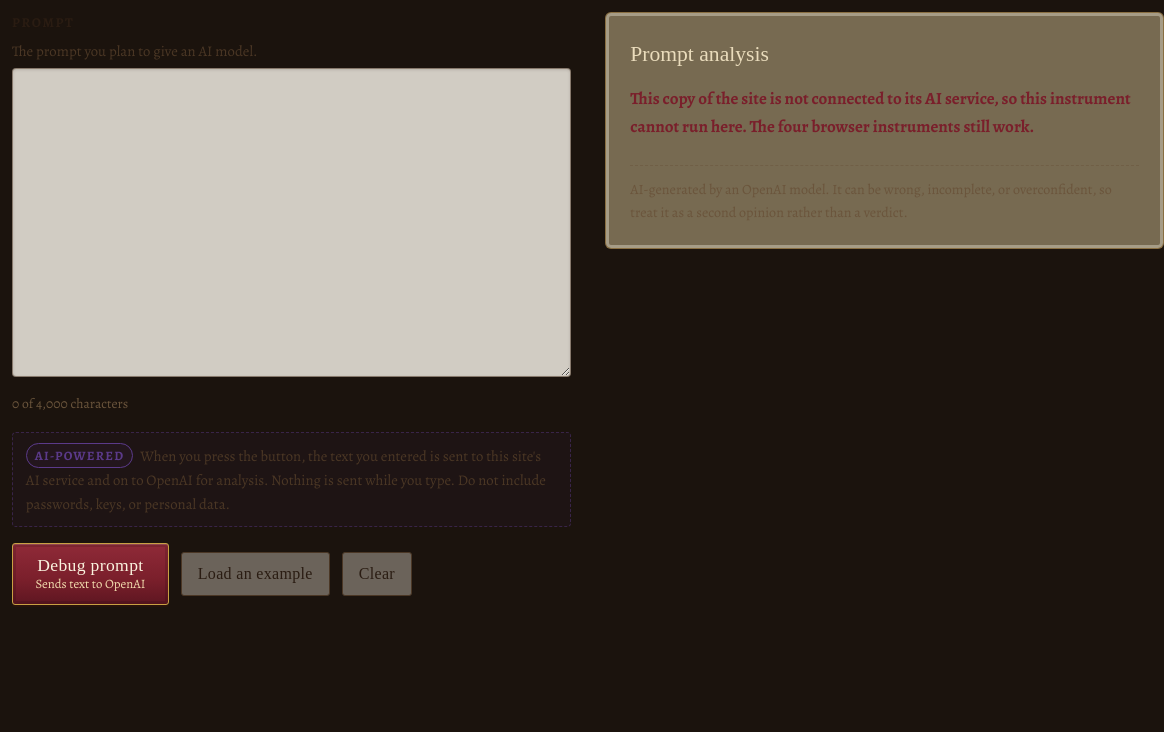
Test: AI instruments: disclosure and configuration › without a configured endpoint the instrument explains it cannot run and sends nothing
The image size is (1164, 732).
Expected: the text "not connected to its AI service" is shown, [630, 87, 1131, 138]
Type "A prompt" into the text box labelled "Prompt" at (291, 223), box [12, 68, 571, 378]
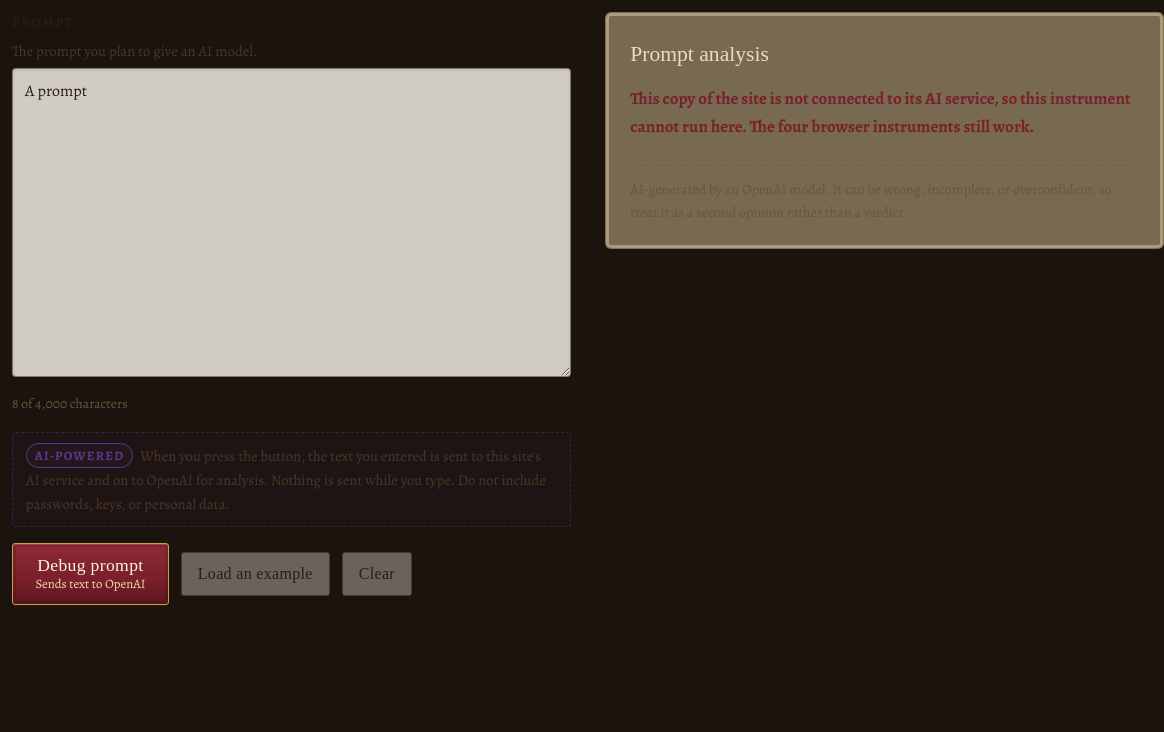
Click the button "Debug prompt Sends text to OpenAI" at (90, 574), box [12, 543, 169, 605]
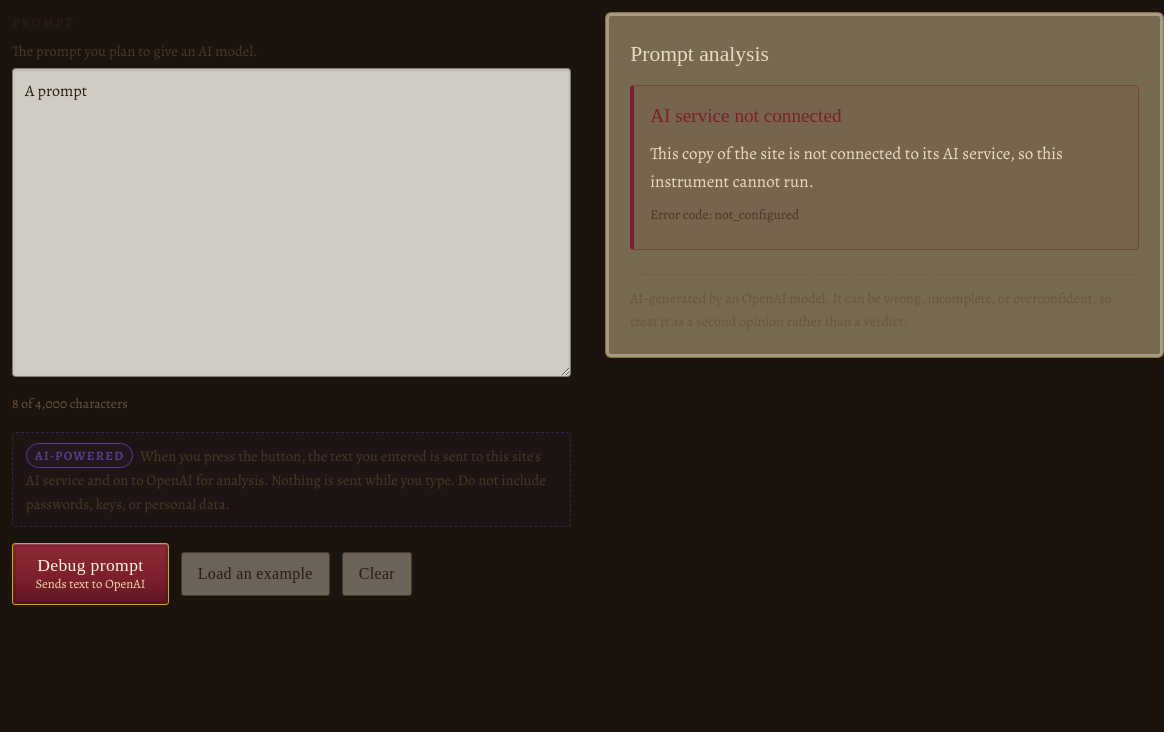
Now the message shows "AI service not connected", box [650, 105, 842, 126]
